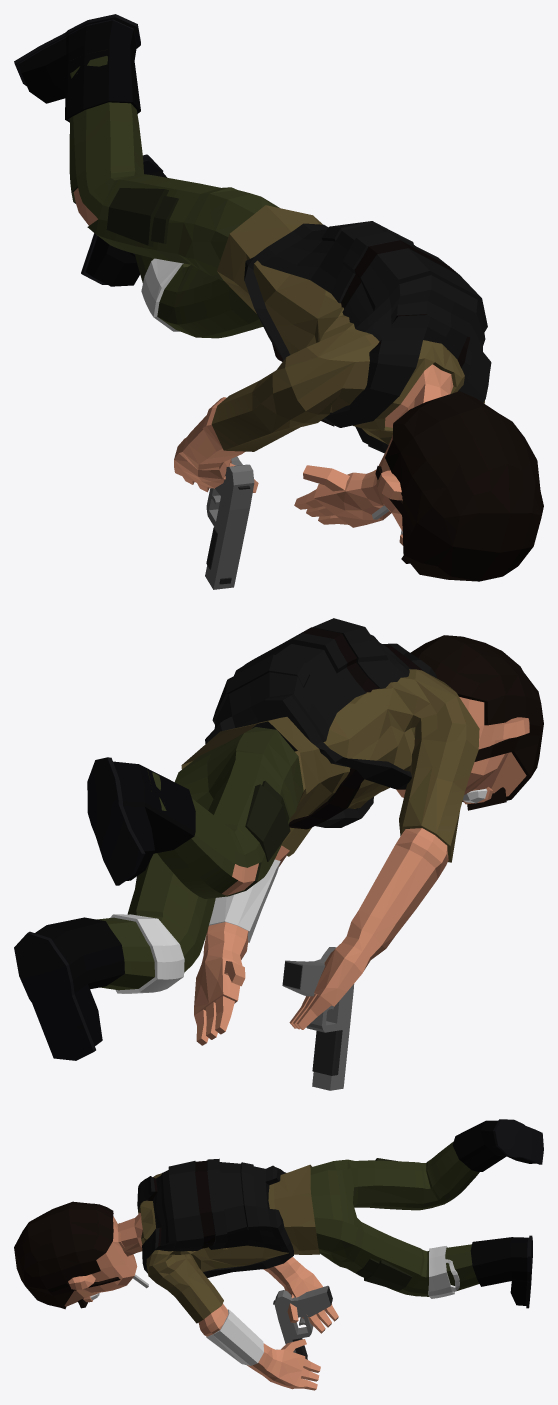
Rendered from frame_0025.obj.
The picture shows the model from 3 angles, top to bottom: view 1: azimuth 30°, elevation 25°; view 2: azimuth 150°, elevation 25°; view 3: azimuth 270°, elevation 25°; orthographic projection. The views are drawn at different scales.
Visible parts, largest first — view 1: Body, Gun; view 2: Body, Gun; view 3: Body, Gun.
Boxes of the visible parts, box(x1,y1,x2,y2) form: Body: box(14, 14, 543, 581); Gun: box(205, 456, 254, 589); Body: box(14, 618, 543, 1060); Gun: box(282, 947, 354, 1090); Body: box(14, 1119, 543, 1390); Gun: box(273, 1285, 332, 1359).
Size of the model in its own units: 1.3 by 2.31 by 4.12.
